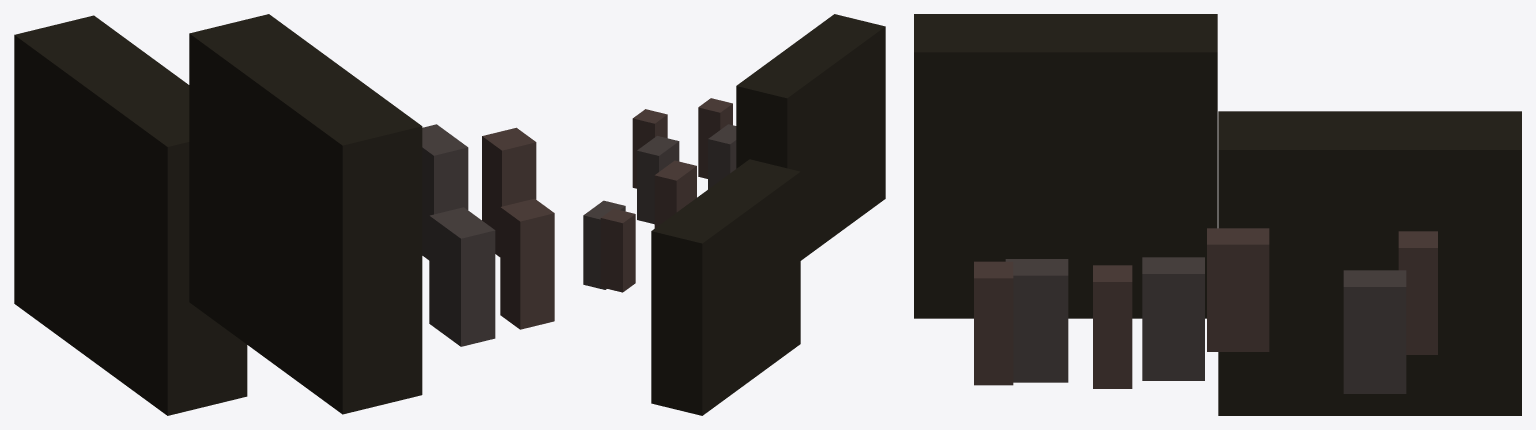
Rendered from HorizonBuildings.glb.
The picture shows the model from 3 angles, left to right: view 1: azimuth 30°, elevation 25°; view 2: azimuth 150°, elevation 25°; view 3: azimuth 270°, elevation 25°; orthographic projection. The views are drawn at different scales.
Parts seen in each view (by area): view 1: Cube.004, Cube.005, Cube.002, Cube.003, Cube, Cube.001; view 2: Cube.005, Cube.004, Cube.006, Cube.001, Cube.008, Cube.007, Cube.003, Cube.002, Cube; view 3: Cube.004, Cube.005, Cube.007, Cube.001, Cube.008, Cube.002, Cube.003, Cube, Cube.006.
Boxes of the visible parts, x1,y1,x2,y2 form: Cube.004: (189,14,422,414); Cube.005: (14,15,247,415); Cube.002: (429,207,495,346); Cube.003: (500,198,554,329); Cube: (482,127,536,256); Cube.001: (422,124,468,260); Cube.005: (651,159,800,415); Cube.004: (736,14,885,260); Cube.006: (600,208,635,292); Cube.001: (637,136,679,224); Cube.008: (654,160,696,228); Cube.007: (583,200,625,289); Cube.003: (698,98,732,178); Cube.002: (708,124,736,189); Cube: (632,109,667,188); Cube.004: (914,14,1217,318); Cube.005: (1218,111,1521,415); Cube.007: (1343,270,1406,393); Cube.001: (1142,257,1204,380); Cube.008: (1207,228,1269,351); Cube.002: (1005,259,1068,382); Cube.003: (974,261,1013,385); Cube: (1093,265,1132,388); Cube.006: (1398,231,1437,354).
Bounding box in the file's own units: 177 × 209 × 309.
